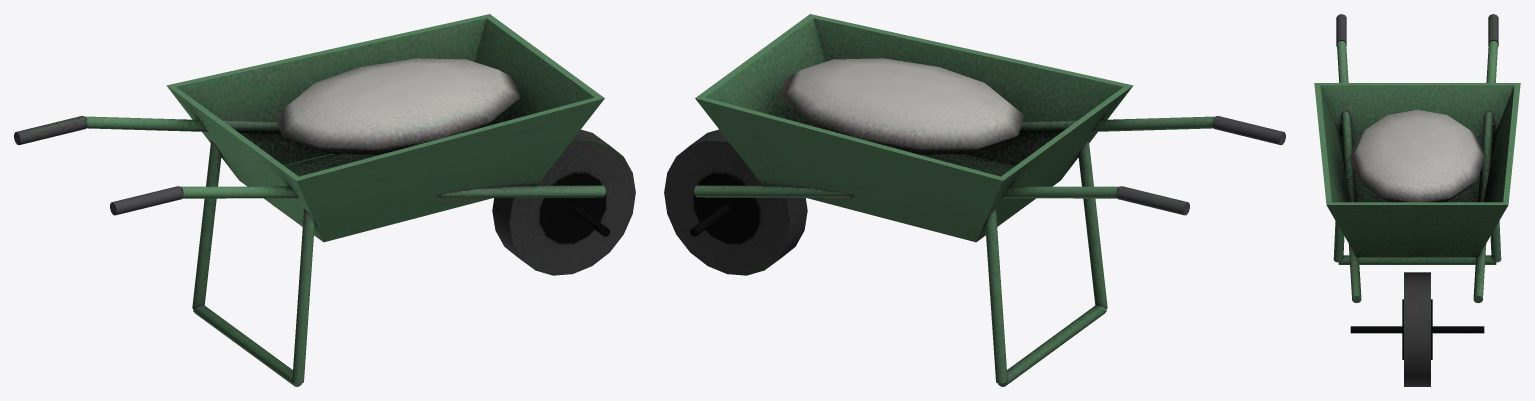
The model's file is wheelbarrow.glb.
3 renders of one model, left to right at view 1: azimuth 30°, elevation 25°; view 2: azimuth 150°, elevation 25°; view 3: azimuth 270°, elevation 25°, orthographic. The views are drawn at different scales.
Visible parts, largest first — view 1: axle; view 2: axle; view 3: axle.
Part boxes in pixels (x1,y1,x2,y2): axle: (14, 14, 635, 386); axle: (664, 14, 1285, 386); axle: (1314, 14, 1520, 386).
Size of the model in its own units: 1.69 by 0.666 by 0.68.
1 material, 1 textured.
